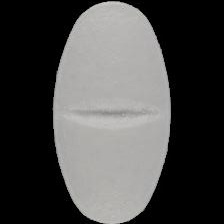67544-555: (0, 0, 224, 224)
